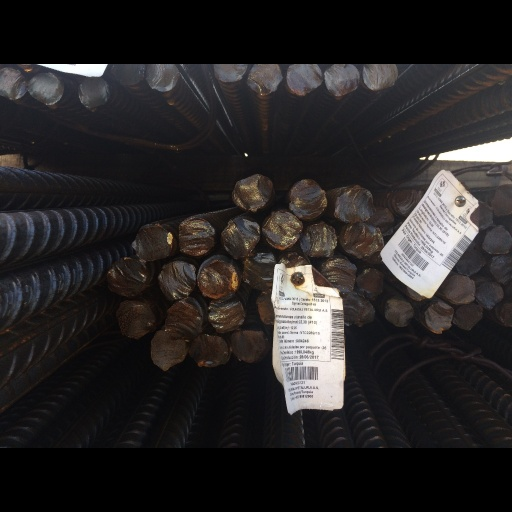dipstick: (220, 205, 261, 261), (107, 256, 147, 311), (231, 146, 275, 196), (289, 153, 328, 209), (339, 212, 385, 258), (198, 261, 239, 312), (158, 261, 196, 316), (116, 314, 156, 366), (262, 196, 302, 248), (150, 355, 187, 410), (178, 204, 215, 256), (334, 162, 374, 210), (189, 359, 231, 404), (319, 259, 356, 309), (132, 214, 172, 260), (208, 312, 245, 359), (300, 211, 337, 258), (323, 1, 361, 46), (231, 354, 269, 399), (243, 252, 277, 299), (28, 11, 65, 54), (287, 0, 322, 42), (247, 0, 282, 42), (343, 307, 374, 350), (424, 317, 454, 360), (145, 0, 180, 36), (363, 0, 398, 35), (78, 17, 107, 58), (445, 281, 475, 320), (0, 4, 27, 47), (383, 313, 414, 350), (453, 319, 483, 356), (476, 288, 504, 327), (456, 243, 483, 282), (482, 216, 511, 252), (357, 273, 384, 311), (208, 0, 247, 23), (111, 0, 144, 27), (491, 254, 512, 294), (257, 299, 274, 348), (374, 190, 394, 224), (478, 182, 493, 220)
